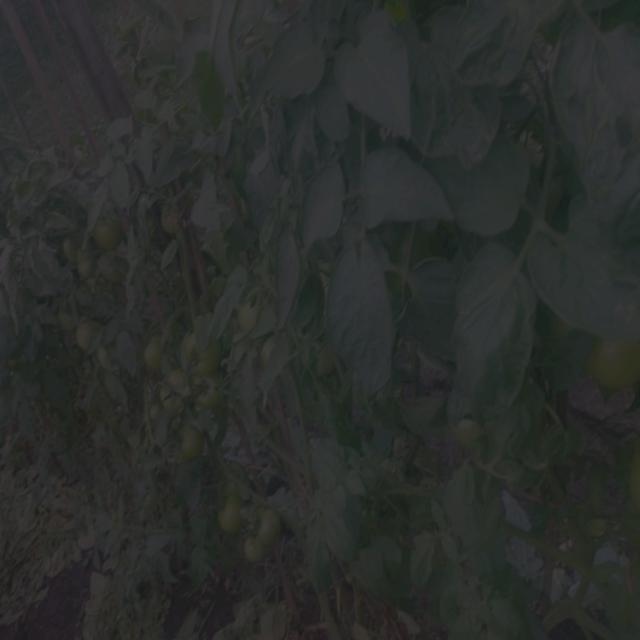tomato: (536, 280, 640, 411), (138, 343, 229, 418), (428, 383, 506, 461), (304, 336, 341, 391), (623, 445, 640, 541), (178, 428, 217, 466), (237, 296, 275, 332), (155, 195, 186, 237), (258, 335, 284, 385), (218, 467, 252, 499), (103, 256, 132, 291), (97, 342, 123, 378), (216, 500, 244, 533), (97, 222, 129, 249), (256, 510, 283, 540), (72, 243, 95, 278), (240, 541, 268, 569), (79, 322, 106, 341), (56, 307, 75, 333)
